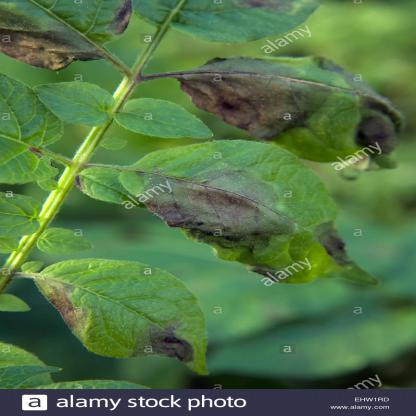Potato leaf late blight: (120, 141, 373, 290), (164, 51, 406, 177), (24, 257, 214, 384), (0, 0, 141, 75)
